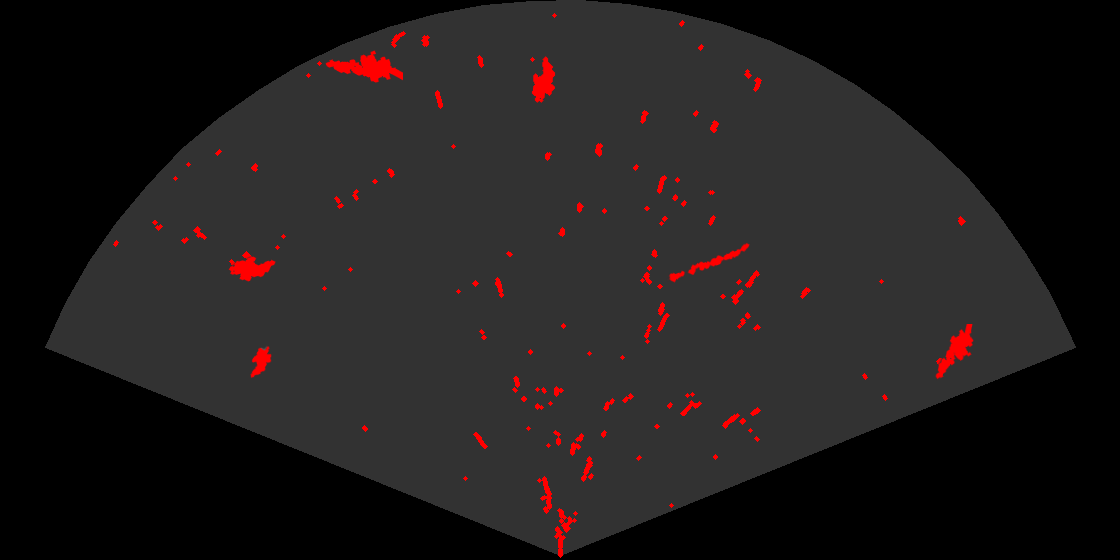AUV: (227, 255, 277, 283), (530, 55, 556, 104), (249, 345, 273, 380)
chain: (666, 241, 751, 284)
frogman: (324, 49, 403, 84), (934, 324, 975, 381)
